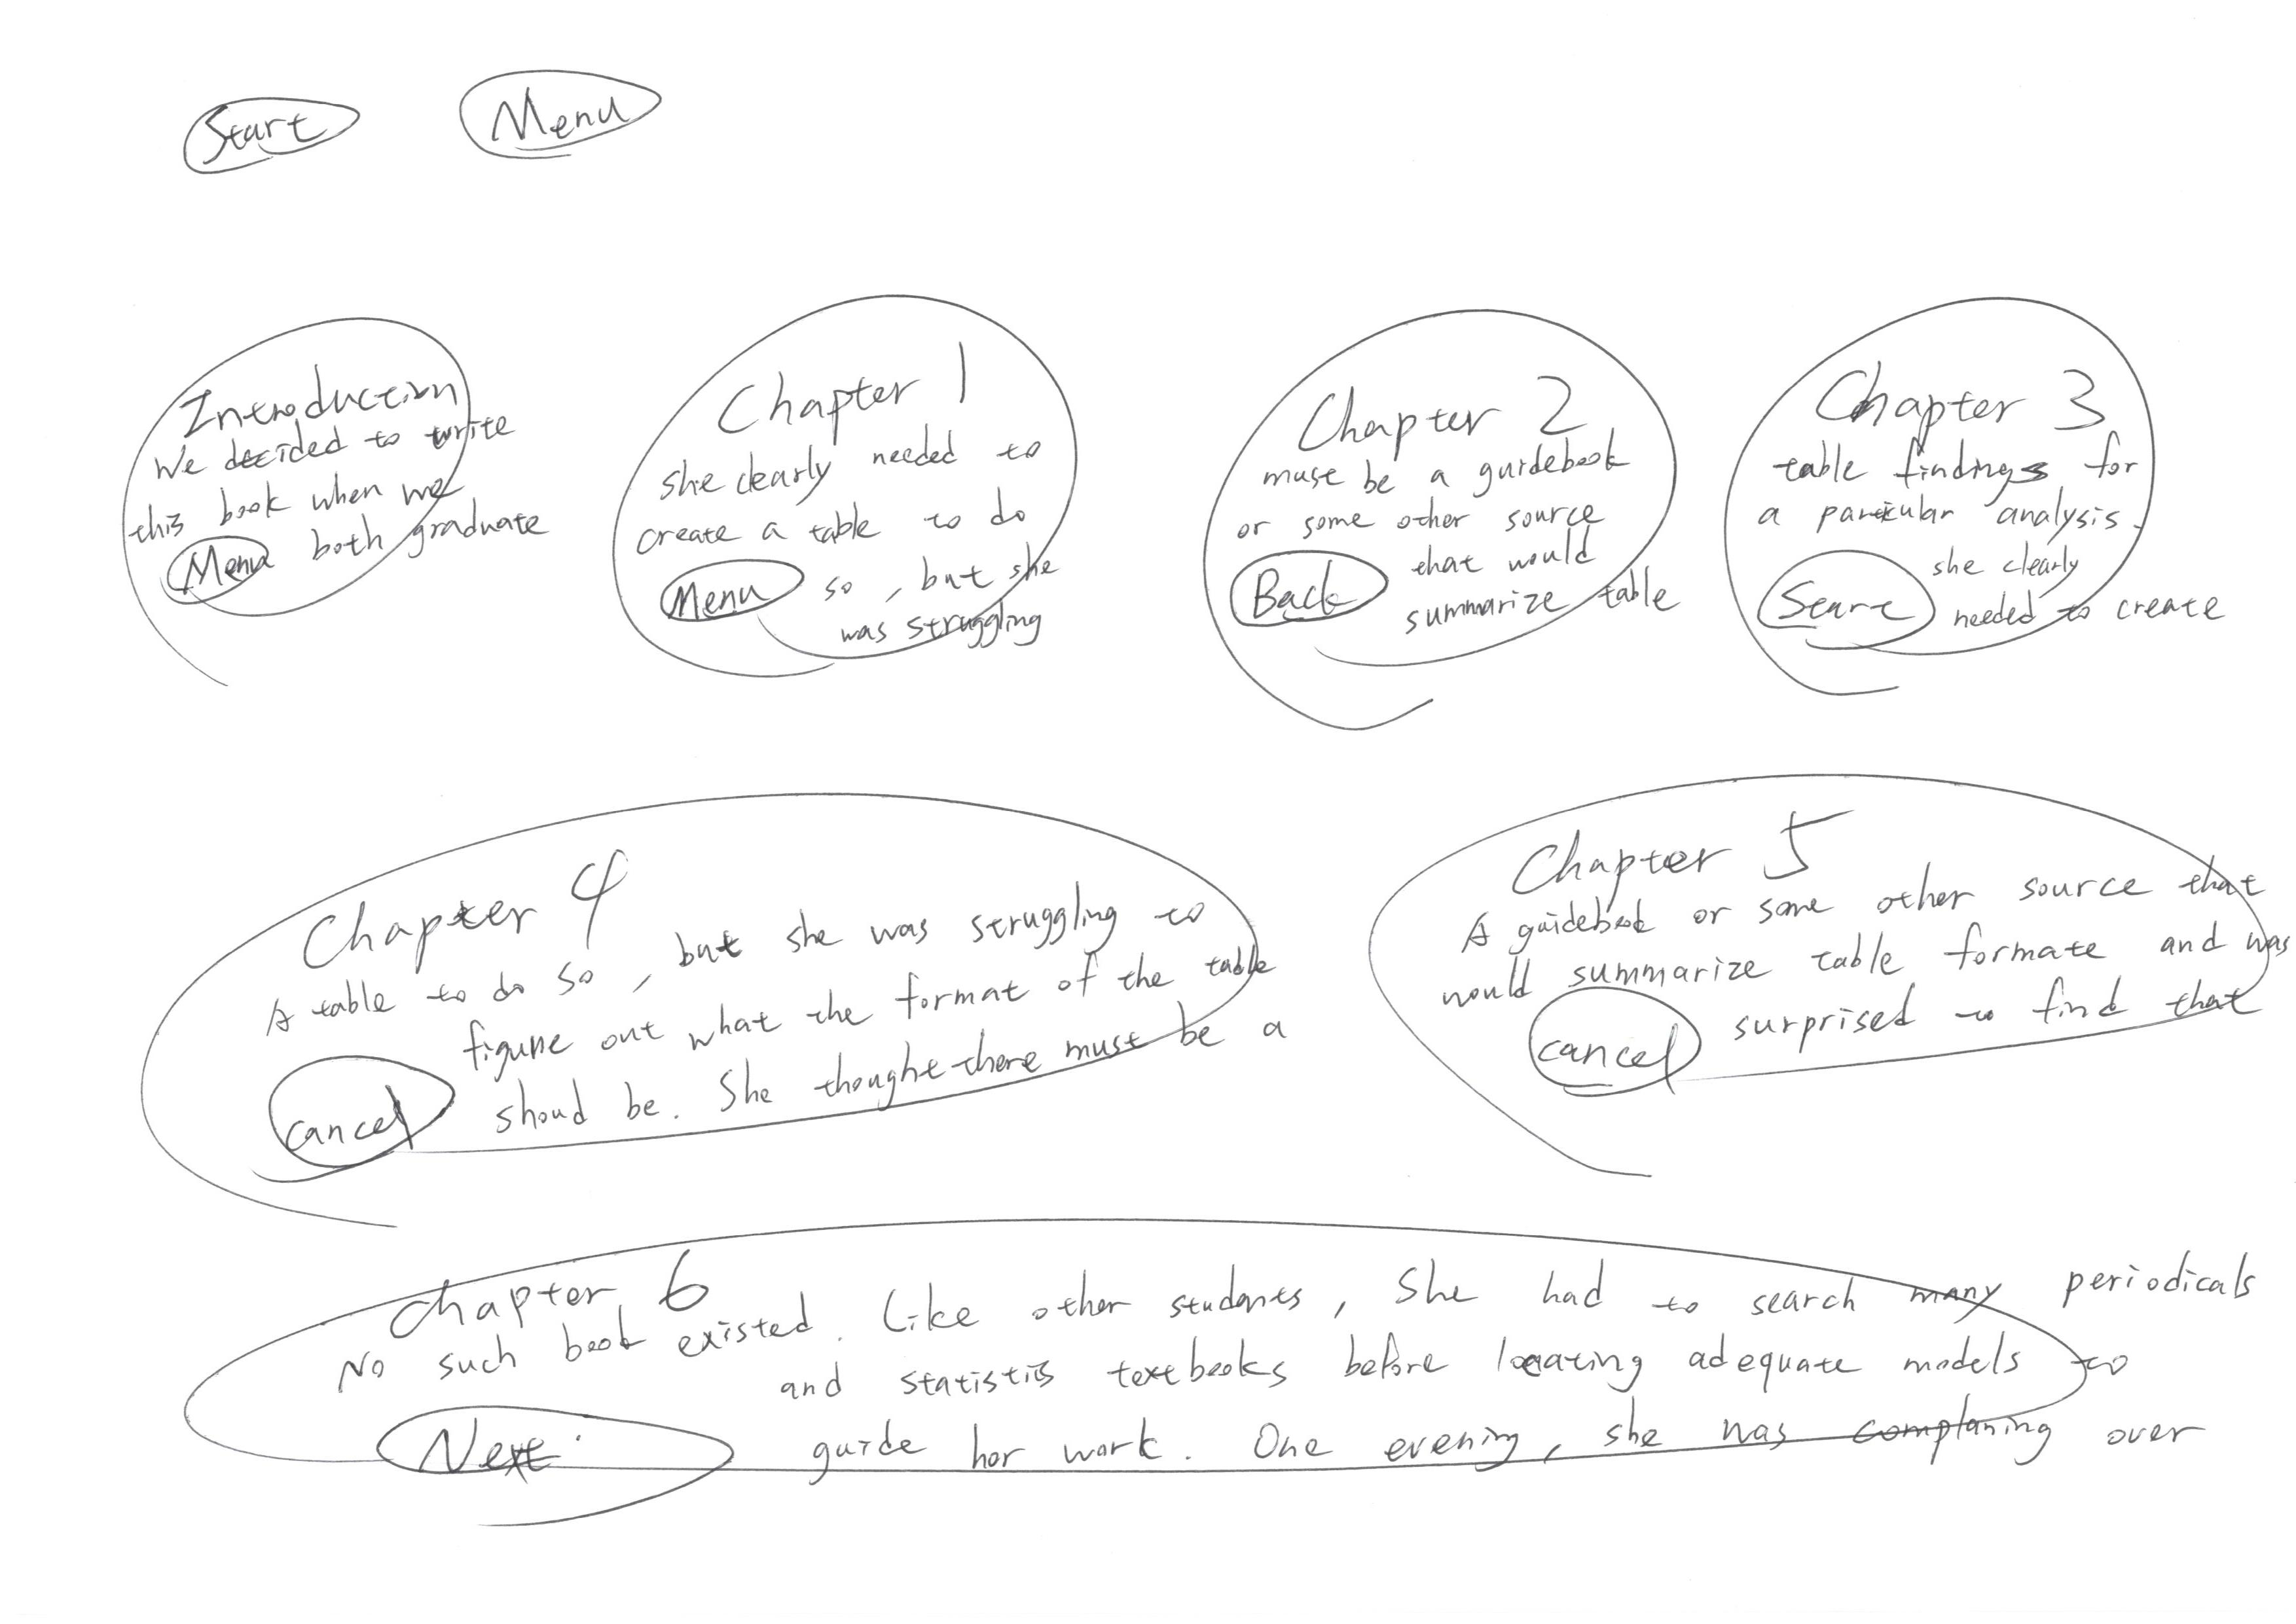back: (1218, 540, 1401, 638)
cancel: (1514, 975, 1719, 1121), (260, 1046, 475, 1185)
double: (84, 777, 1336, 1225), (1329, 740, 2296, 1207)
menu: (445, 58, 689, 167), (640, 541, 823, 638), (146, 527, 287, 626)
next: (367, 1387, 758, 1524)
quadruple: (577, 274, 1155, 733), (1136, 272, 1714, 731), (1705, 265, 2284, 724), (107, 295, 534, 707)
row: (51, 269, 2296, 758), (51, 740, 2296, 1229), (91, 1236, 2296, 1624), (49, 2, 2294, 269)
single: (153, 1213, 2296, 1543)
small-title: (295, 852, 647, 963), (1519, 812, 1856, 896), (392, 1257, 731, 1318), (719, 357, 979, 434), (1315, 367, 1582, 441), (1837, 364, 2110, 431), (181, 387, 471, 425)
start: (163, 69, 380, 185), (1749, 536, 1939, 663)
text: (839, 1255, 2284, 1448), (529, 919, 1232, 1128), (267, 933, 1225, 1028), (1747, 888, 2282, 1044), (1443, 886, 2296, 981), (357, 1318, 1598, 1367), (844, 459, 1069, 664), (663, 434, 1057, 543), (1412, 482, 1677, 638), (1259, 445, 1637, 545)
